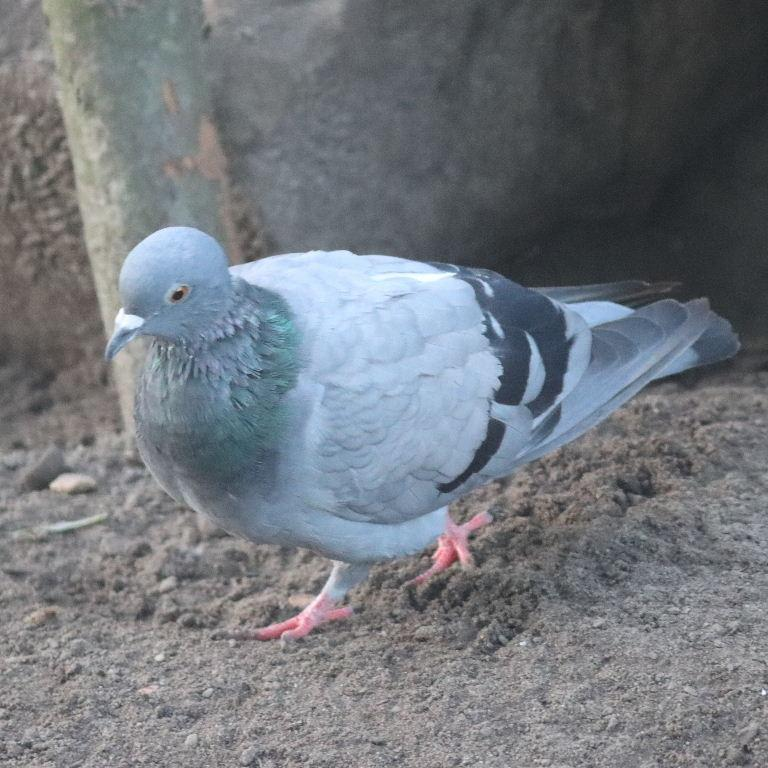Flying Rat: (89, 237, 753, 647)
